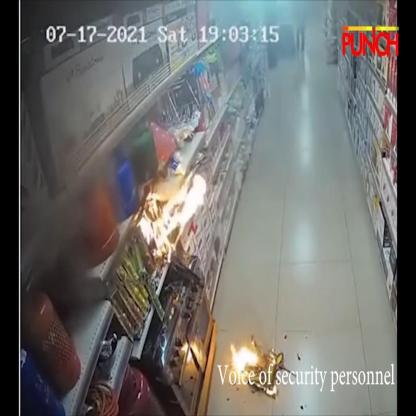fire: (137, 174, 206, 262), (231, 344, 257, 373)
